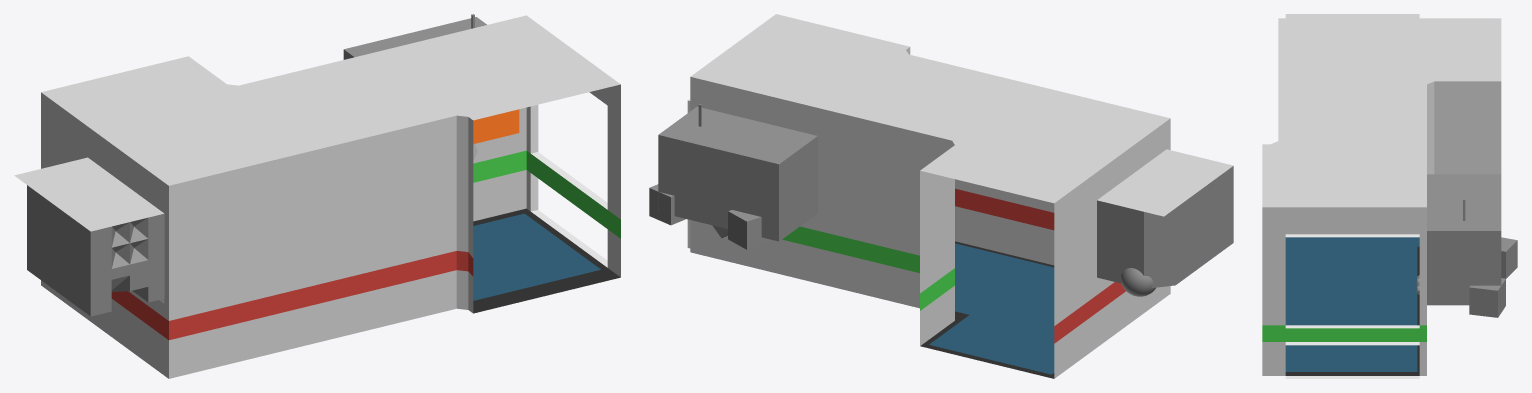
The model's file is Area2LightsRays.fbx.
The picture shows the model from 3 angles, left to right: view 1: azimuth 30°, elevation 25°; view 2: azimuth 150°, elevation 25°; view 3: azimuth 270°, elevation 25°; orthographic projection. The views are drawn at different scales.
Parts seen in each view (by area): view 1: Area2Env, booth2, Telesurf, booth2_light, booth1, booth1_blocker; view 2: Area2Env, booth1, Telesurf, booth2, booth2_light, Sphere; view 3: Area2Env, Telesurf, booth1, booth2_light.
Boxes of the visible parts, left/top/right/bottom form: Area2Env: left=41, top=15, right=620, bottom=378; booth2: left=27, top=185, right=164, bottom=316; Telesurf: left=473, top=214, right=600, bottom=300; booth2_light: left=14, top=157, right=163, bottom=231; booth1: left=343, top=17, right=486, bottom=59; booth1_blocker: left=473, top=109, right=519, bottom=143; Area2Env: left=687, top=14, right=1170, bottom=378; booth1: left=649, top=106, right=817, bottom=249; Telesurf: left=929, top=243, right=1053, bottom=374; booth2: left=1097, top=166, right=1233, bottom=287; booth2_light: left=1097, top=149, right=1233, bottom=216; Sphere: left=1120, top=268, right=1155, bottom=296; Area2Env: left=1262, top=18, right=1501, bottom=378; Telesurf: left=1286, top=237, right=1419, bottom=371; booth1: left=1427, top=174, right=1517, bottom=317; booth2_light: left=1285, top=14, right=1419, bottom=18.
Size of the model in its own units: 710 by 250 by 343.
